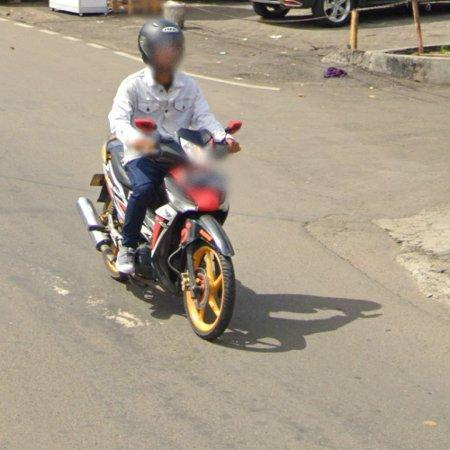motorcycles: (78, 119, 241, 341)
